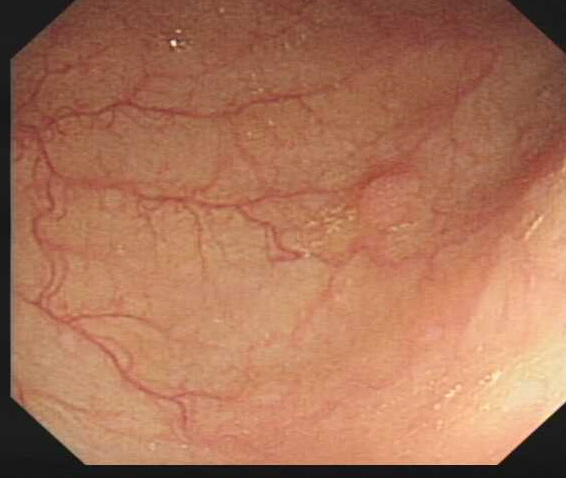others: (354, 170, 420, 231)
